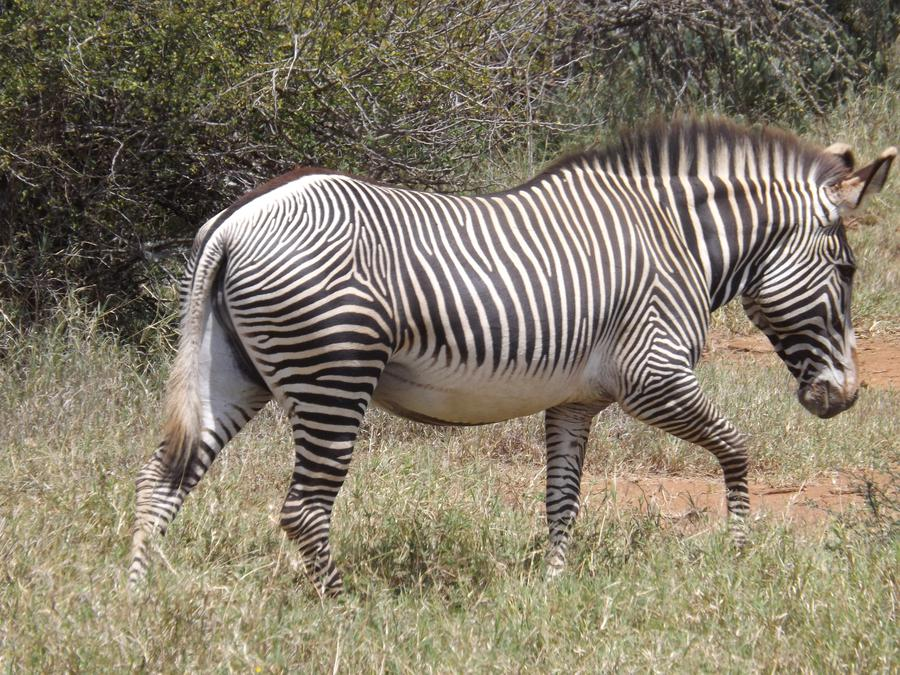zebra_grevys: (180, 145, 717, 386)
